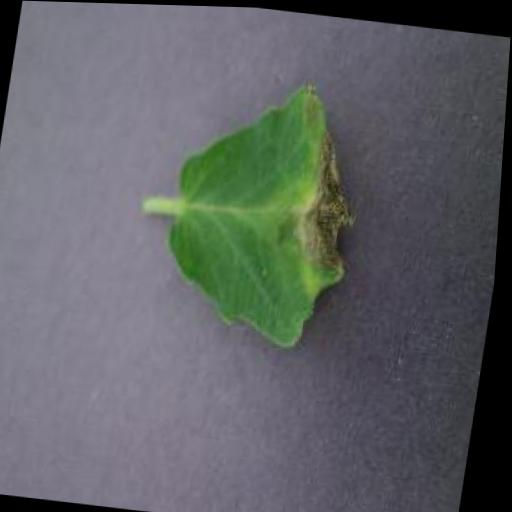Late Blight: (162, 65, 378, 351)
